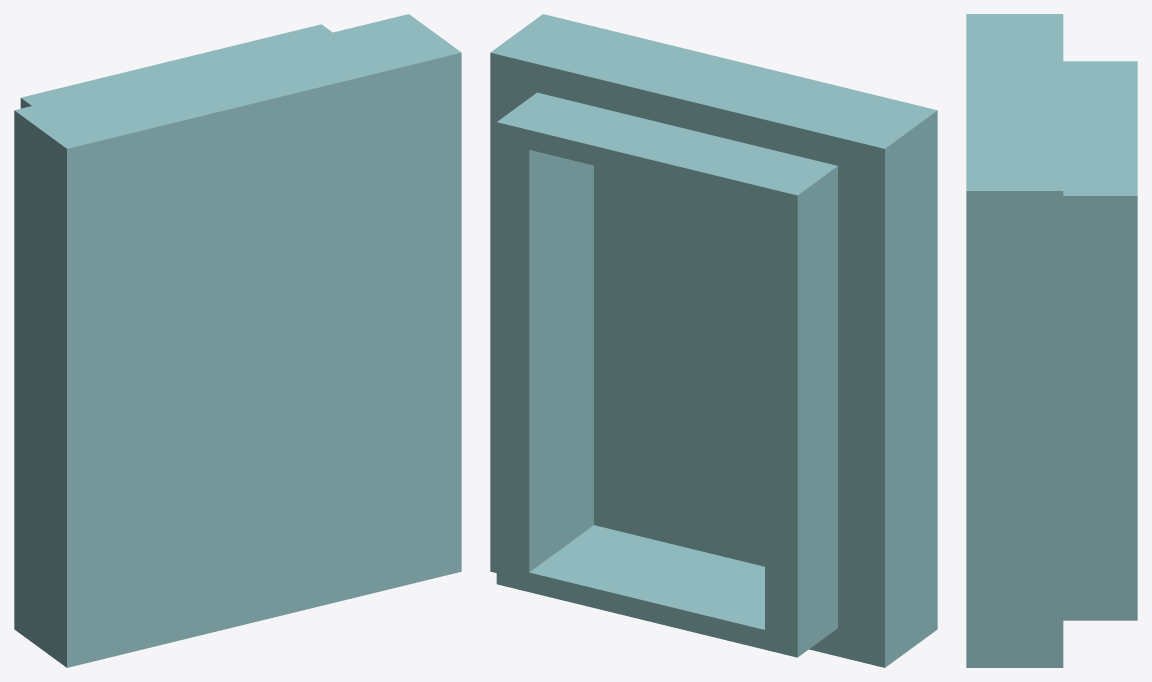
The model's file is Itr_Obj_Fridge1_Bottom_Door_Left_05.FBX.
The picture shows the model from 3 angles, left to right: view 1: azimuth 30°, elevation 25°; view 2: azimuth 150°, elevation 25°; view 3: azimuth 270°, elevation 25°; orthographic projection. The views are drawn at different scales.
Parts seen in each view (by area): view 1: Itr_Obj_Fridge1_Bottom_Door_Left_05; view 2: Itr_Obj_Fridge1_Bottom_Door_Left_05; view 3: Itr_Obj_Fridge1_Bottom_Door_Left_05.
Part boxes in pixels (x1,y1,x2,y2): Itr_Obj_Fridge1_Bottom_Door_Left_05: (14, 14, 461, 667); Itr_Obj_Fridge1_Bottom_Door_Left_05: (490, 14, 937, 667); Itr_Obj_Fridge1_Bottom_Door_Left_05: (966, 14, 1137, 667).
Bounding box in the file's own units: 22.45 × 28.21 × 9.19.
